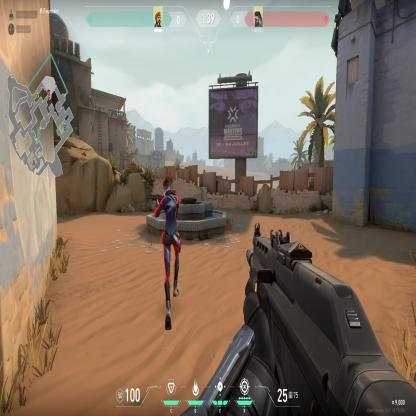enemy: (156, 174, 184, 338)
